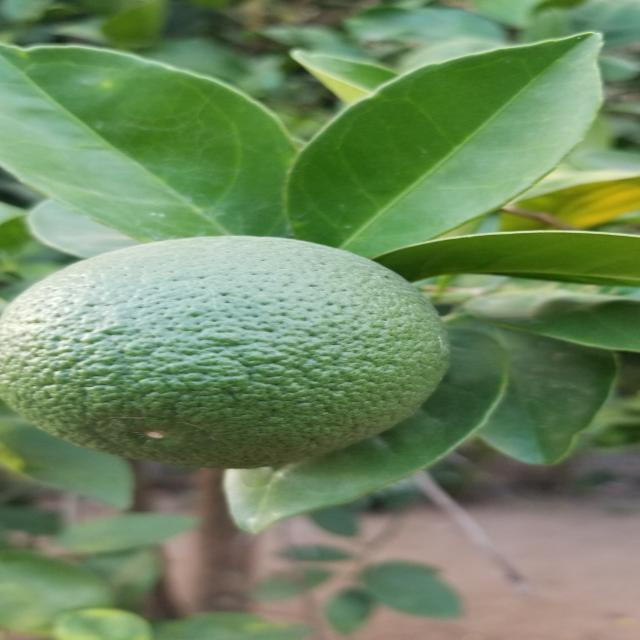Unripe: (3, 229, 460, 476)
